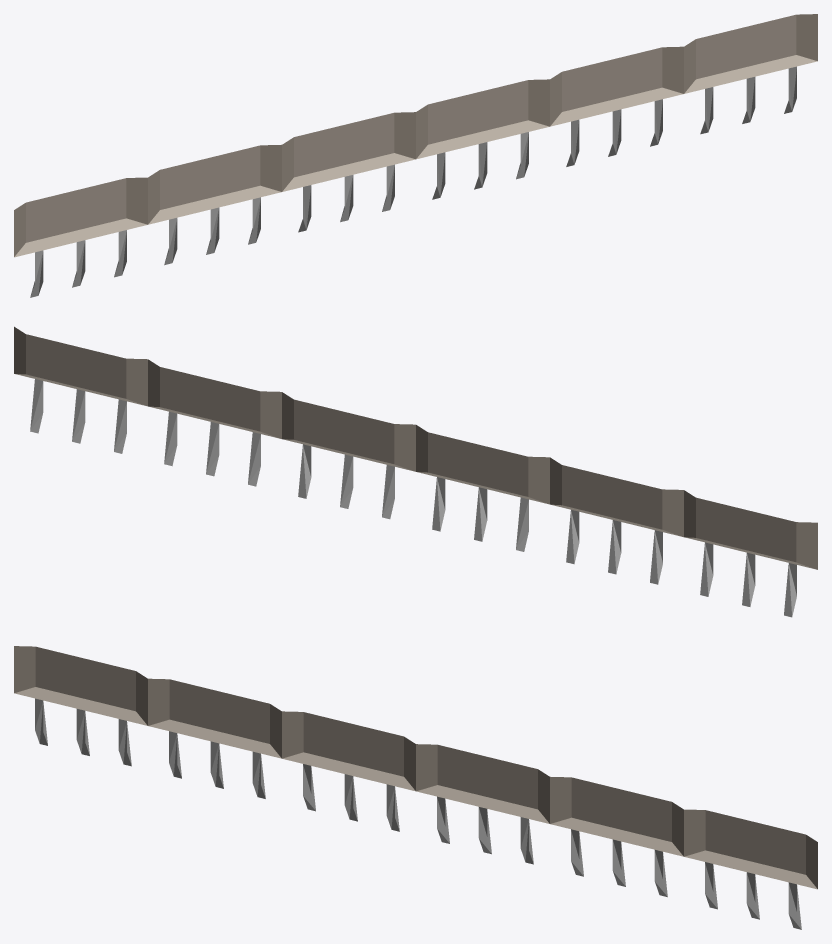
Rendered from brdr.obj.
3 views of the same model, one above another, from view 1: azimuth 30°, elevation 25°; view 2: azimuth 150°, elevation 25°; view 3: azimuth 330°, elevation 25° (orthographic).
Size of the model in its own units: 4800 by 550 by 50.
